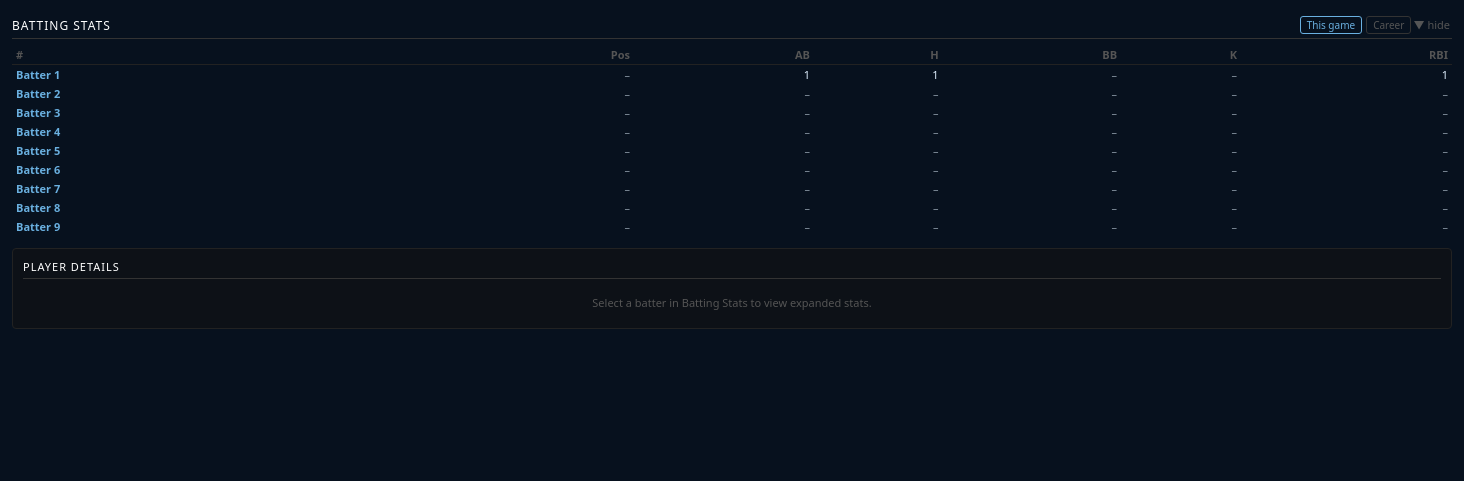
Scenario: PlayerStatsPanel › shows Player Details for selected batter after clicking a row
The image size is (1464, 481).
Click the row with test id "batter-row-1": (38, 74) [12, 64, 1452, 84]
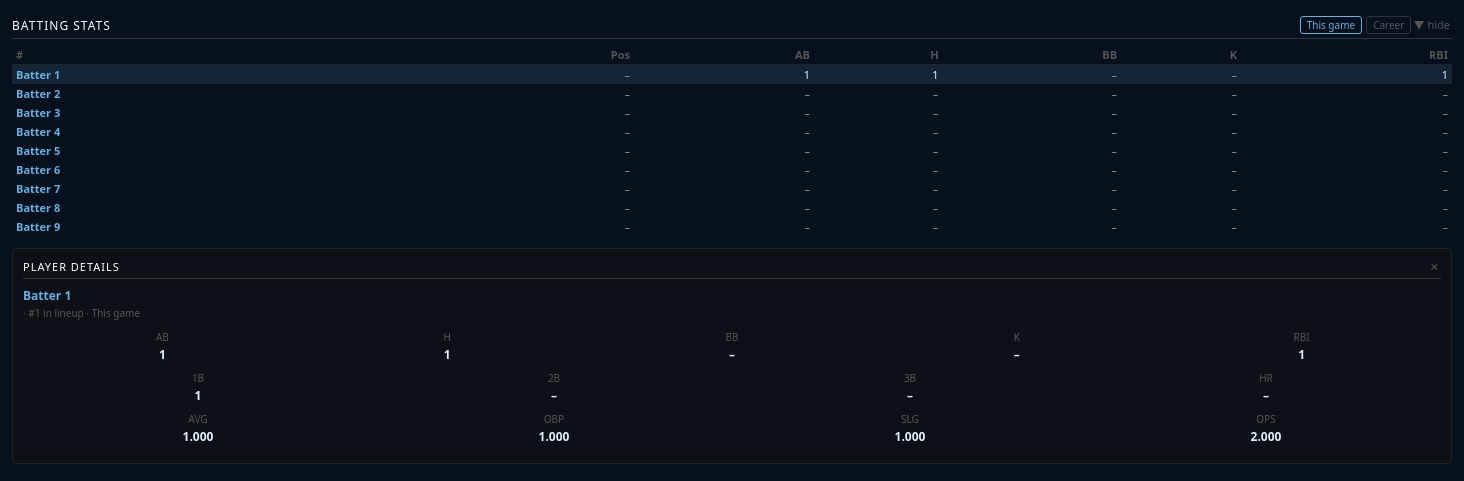
Now the text "AVG" is shown, box [188, 412, 208, 426]
Now the text "OBP" is shown, box [544, 412, 564, 426]
Now the text "SLG" is shown, box [901, 412, 919, 426]
